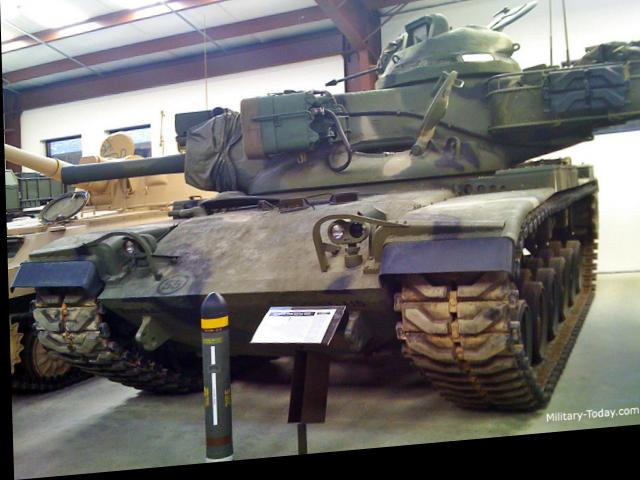tank: (44, 16, 640, 428)
